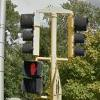Traffic light: (16, 9, 48, 87)
